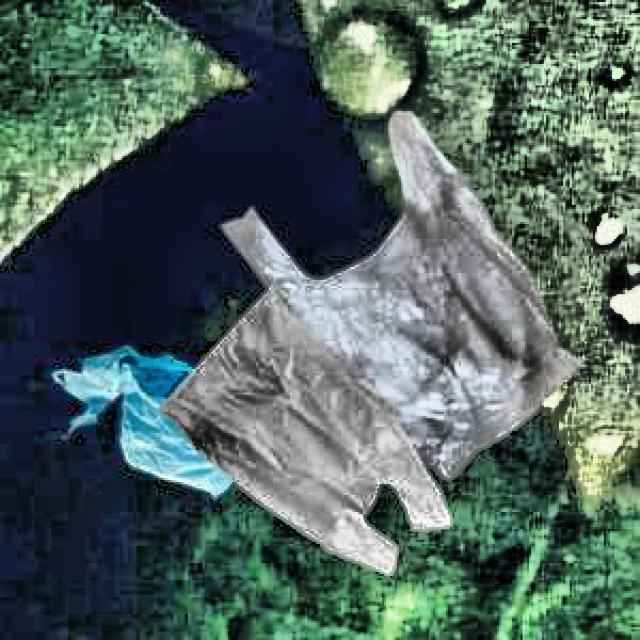Plastic: (197, 91, 576, 480), (163, 310, 467, 574), (55, 347, 270, 516)
